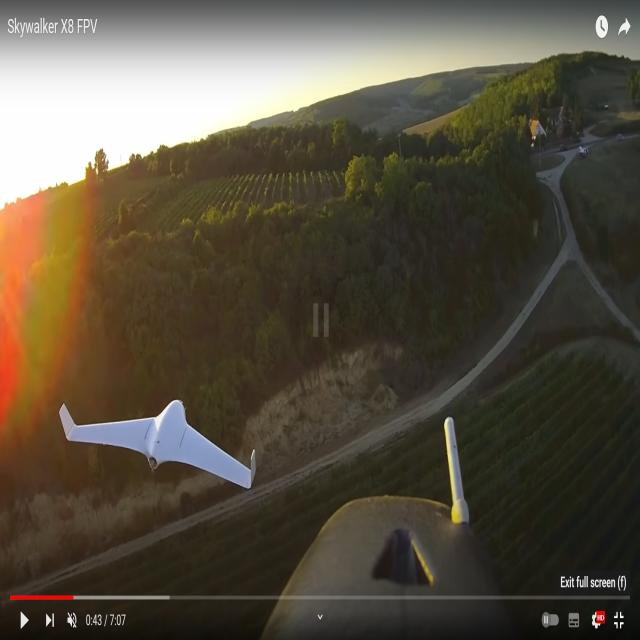iha: (60, 428, 255, 461)
